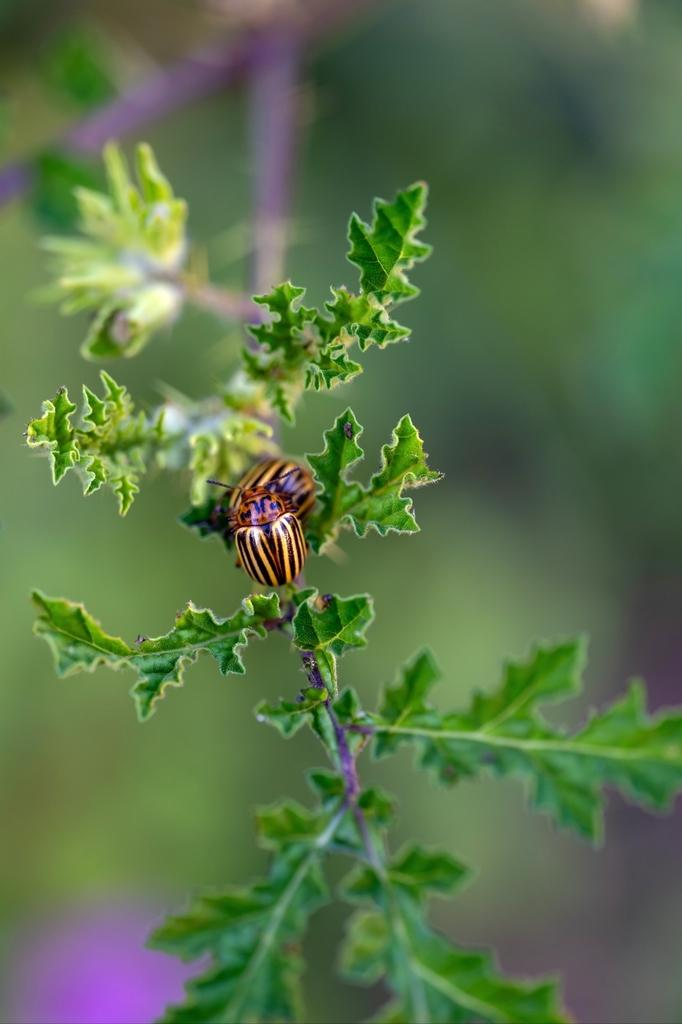potato_beetle: (186, 440, 330, 607)
